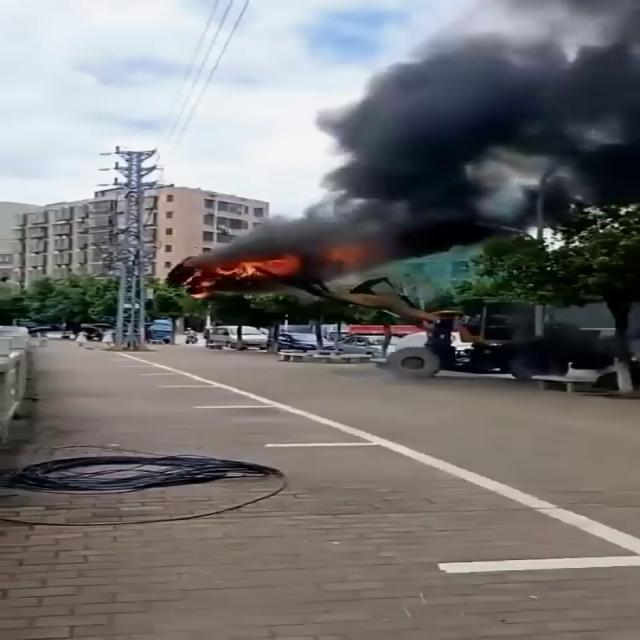Fire: (194, 254, 304, 287)
Smoke: (250, 0, 640, 269)
